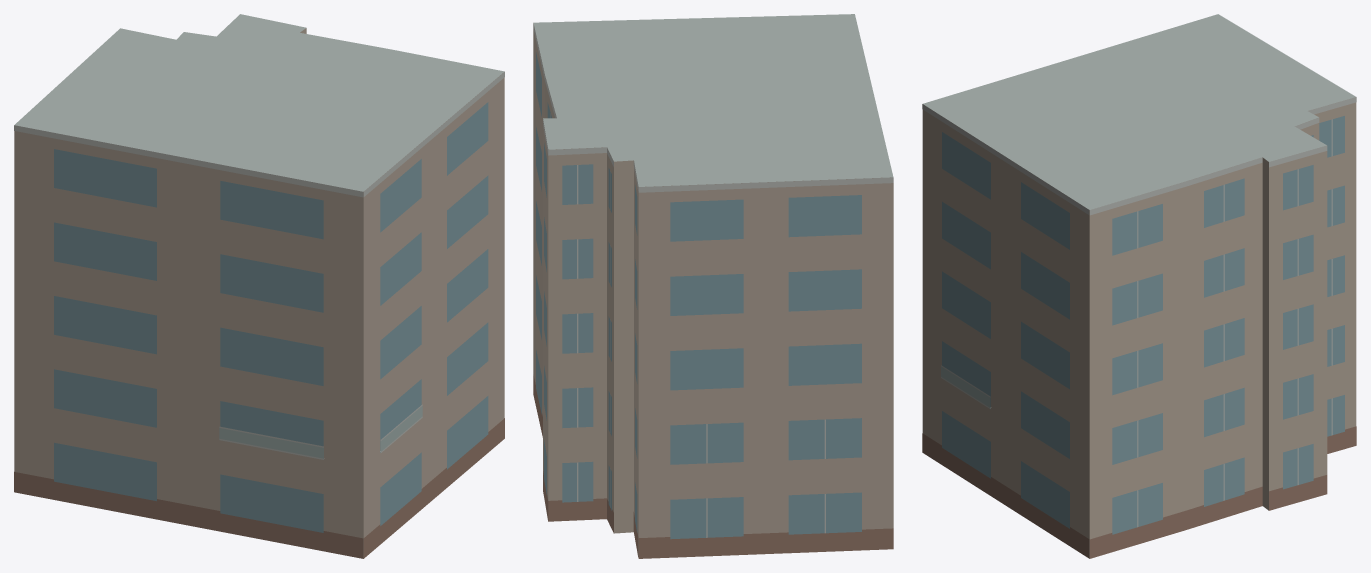
File: survey-upis-32850431.glb
3 views of the same model, side by side, from view 1: azimuth 30°, elevation 25°; view 2: azimuth 150°, elevation 25°; view 3: azimuth 270°, elevation 25° (orthographic). The views are drawn at different scales.
Visible parts, largest first — view 1: survey-upis-32850431.tmp; view 2: survey-upis-32850431.tmp; view 3: survey-upis-32850431.tmp.
Part boxes in pixels (x1=…): survey-upis-32850431.tmp: x1=14, y1=14, x2=504, y2=558; survey-upis-32850431.tmp: x1=533, y1=14, x2=893, y2=558; survey-upis-32850431.tmp: x1=922, y1=14, x2=1356, y2=558.
Bounding box in the file's own units: 19.04 × 15.78 × 17.8.
